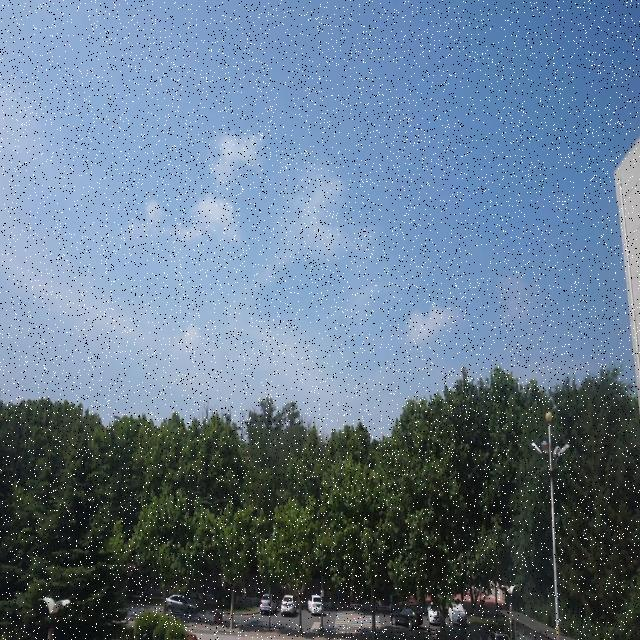UAV: (416, 398, 422, 405)
